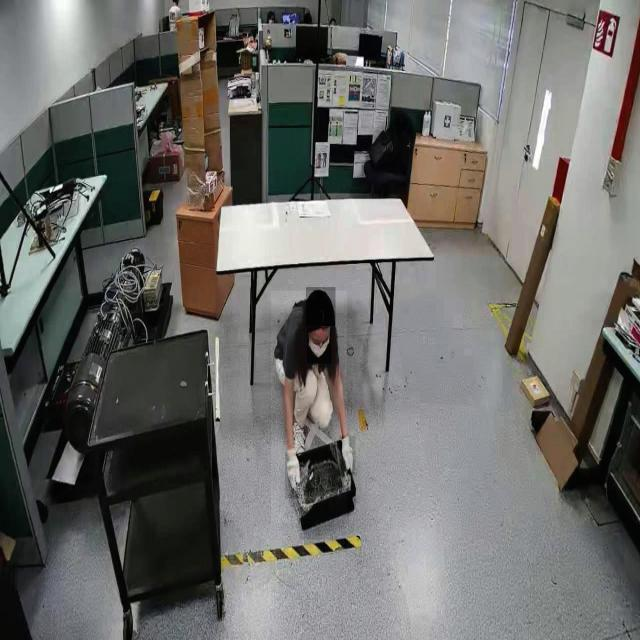face_mask: (307, 327, 331, 364)
hand_glove: (284, 452, 302, 500), (339, 436, 355, 476)
head_nohelmet: (306, 287, 336, 327)
person: (271, 290, 347, 524)
